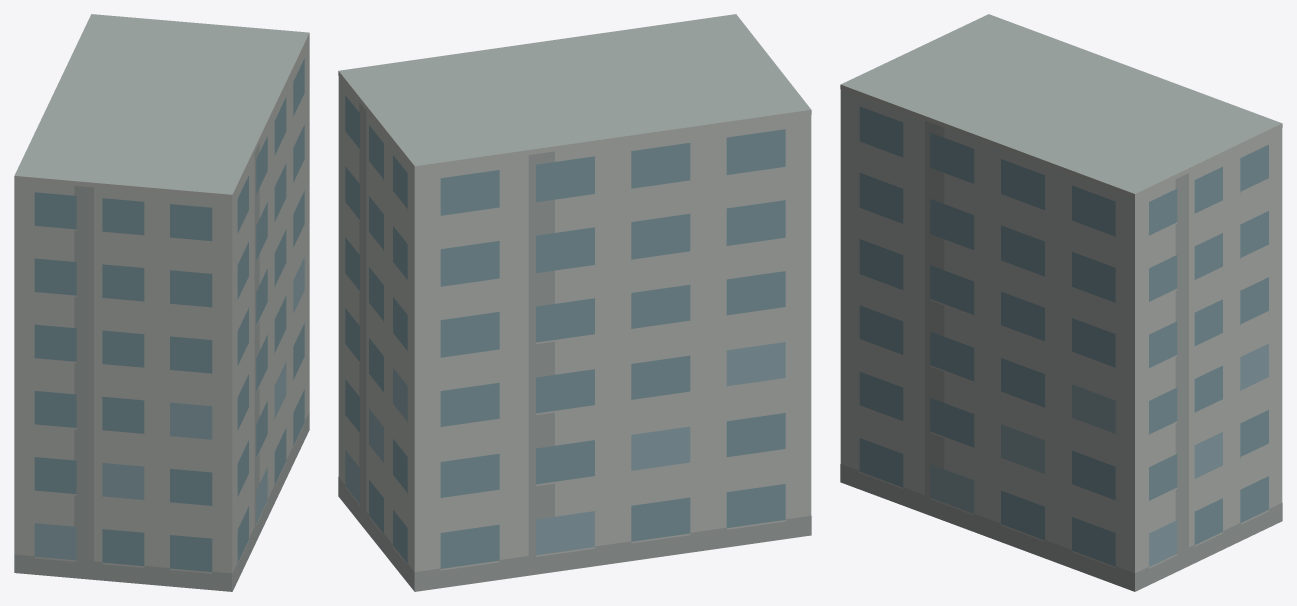
File: survey-upis-33040722.glb
The picture shows the model from 3 angles, left to right: view 1: azimuth 30°, elevation 25°; view 2: azimuth 150°, elevation 25°; view 3: azimuth 270°, elevation 25°; orthographic projection. The views are drawn at different scales.
Visible parts, largest first — view 1: survey-upis-33040722.tmp; view 2: survey-upis-33040722.tmp; view 3: survey-upis-33040722.tmp.
Boxes of the visible parts, x1,y1,x2,y2 form: survey-upis-33040722.tmp: (14, 14, 309, 591); survey-upis-33040722.tmp: (338, 14, 811, 591); survey-upis-33040722.tmp: (840, 14, 1282, 591).
Bounding box in the file's own units: 19.81 × 20.4 × 20.54.
